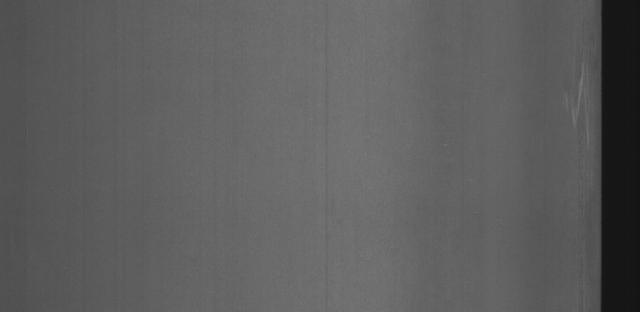silk_spot: (556, 28, 599, 205)
